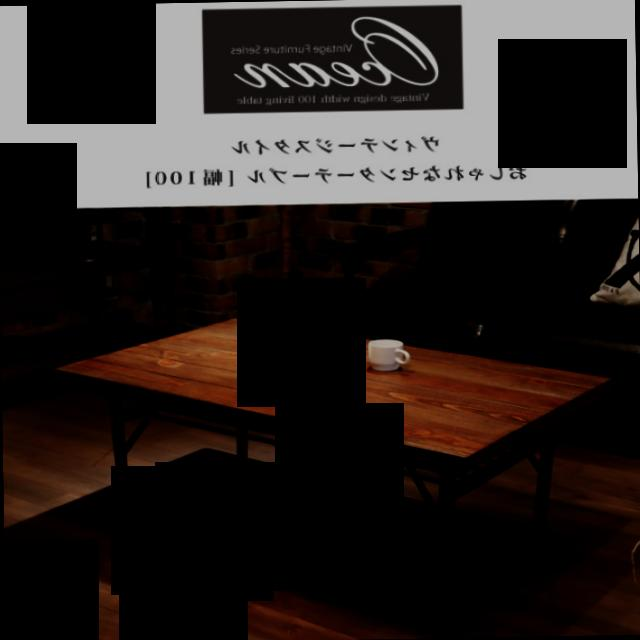vintage desk: (46, 310, 624, 617)
